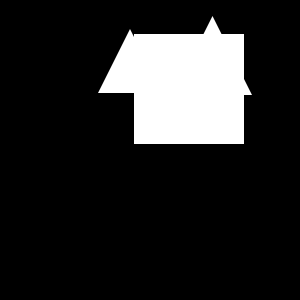circle: (134, 34, 244, 144)
triangle: (173, 16, 252, 95), (98, 29, 162, 93)
